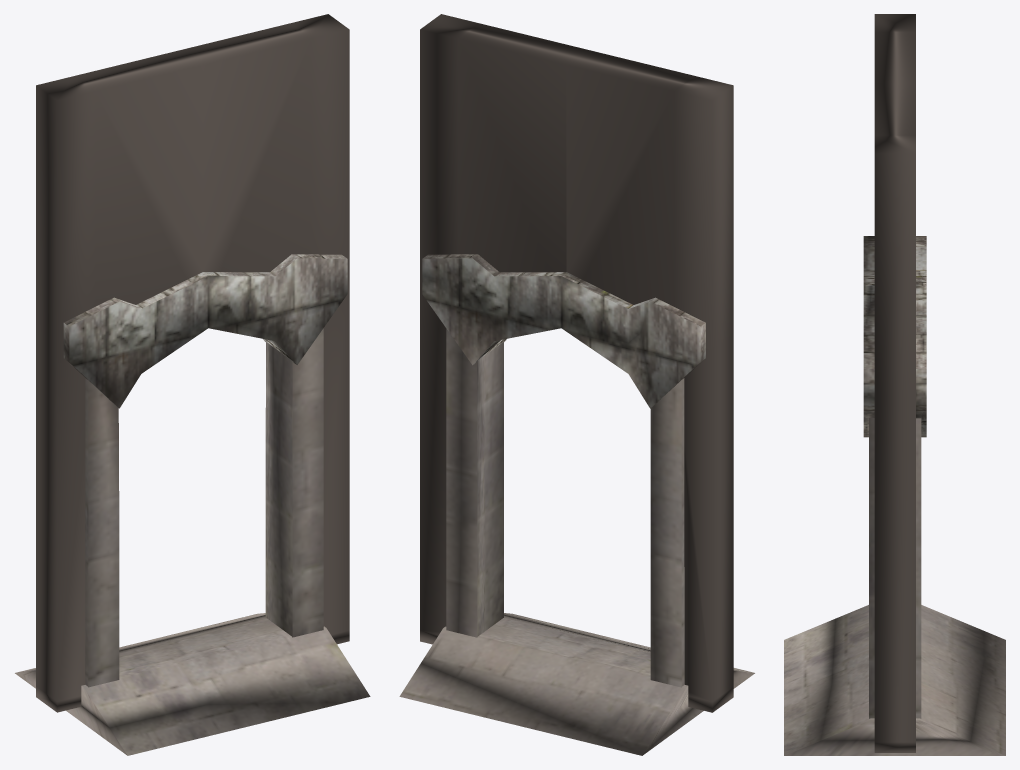
File: wall_tiny_entry.glb
The picture shows the model from 3 angles, left to right: view 1: azimuth 30°, elevation 25°; view 2: azimuth 150°, elevation 25°; view 3: azimuth 270°, elevation 25°; orthographic projection. The views are drawn at different scales.
Visible parts, largest first — view 1: wall_tiny_entry; view 2: wall_tiny_entry; view 3: wall_tiny_entry.
Part boxes in pixels (left/top/right/bottom): wall_tiny_entry: left=15, top=14, right=370, bottom=755; wall_tiny_entry: left=399, top=14, right=754, bottom=755; wall_tiny_entry: left=784, top=14, right=1005, bottom=755.
Bounding box in the file's own units: 4 × 8.2 × 2.69.
3 materials, 3 textured.
